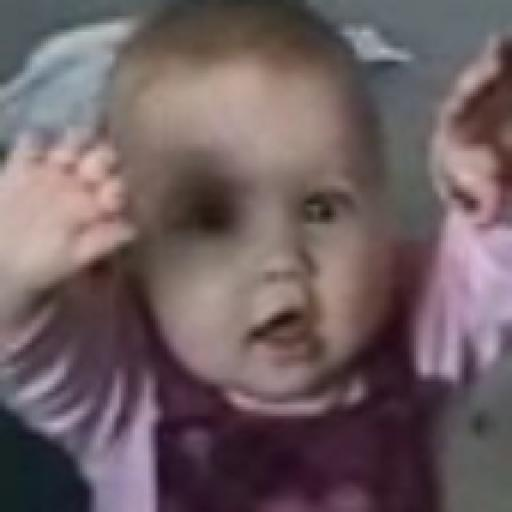Autism: (66, 21, 430, 420)
